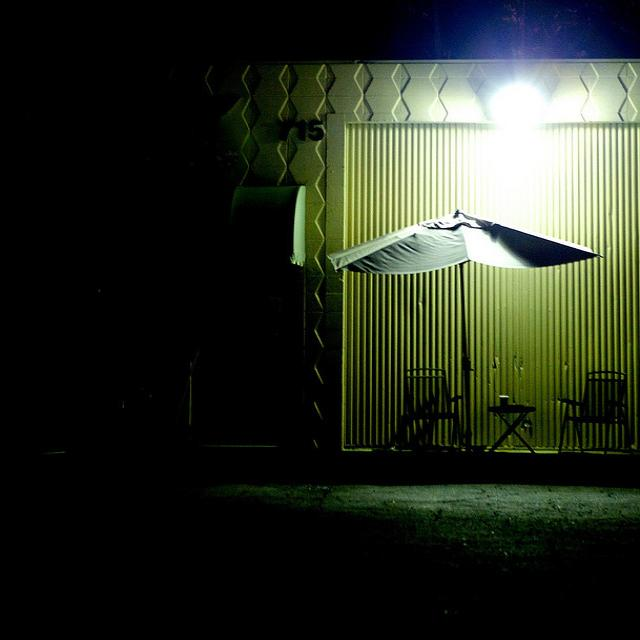Cup: (485, 385, 516, 411)
Table: (481, 387, 530, 458)
chair: (550, 360, 640, 455), (392, 344, 463, 464)
